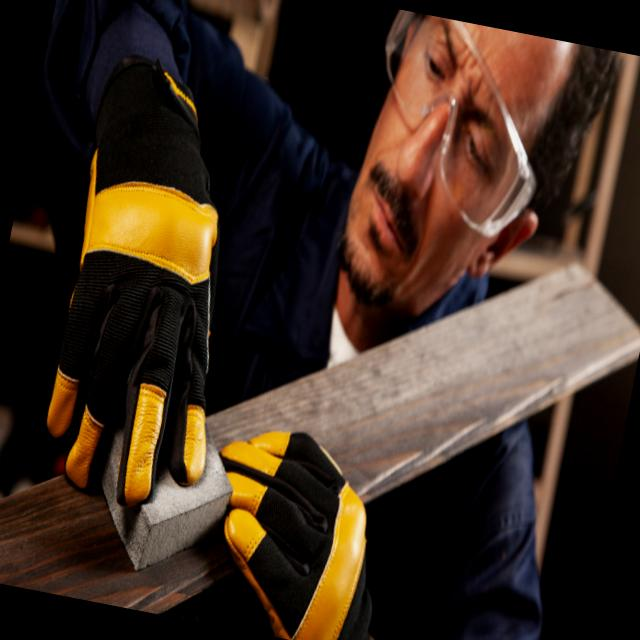goggles: (360, 8, 570, 216)
